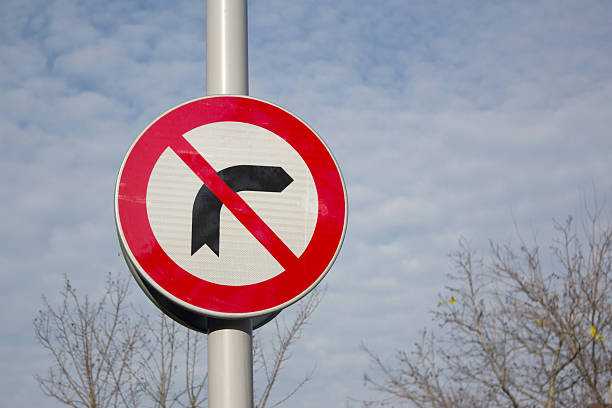saga_girilmez: (110, 92, 352, 321)
